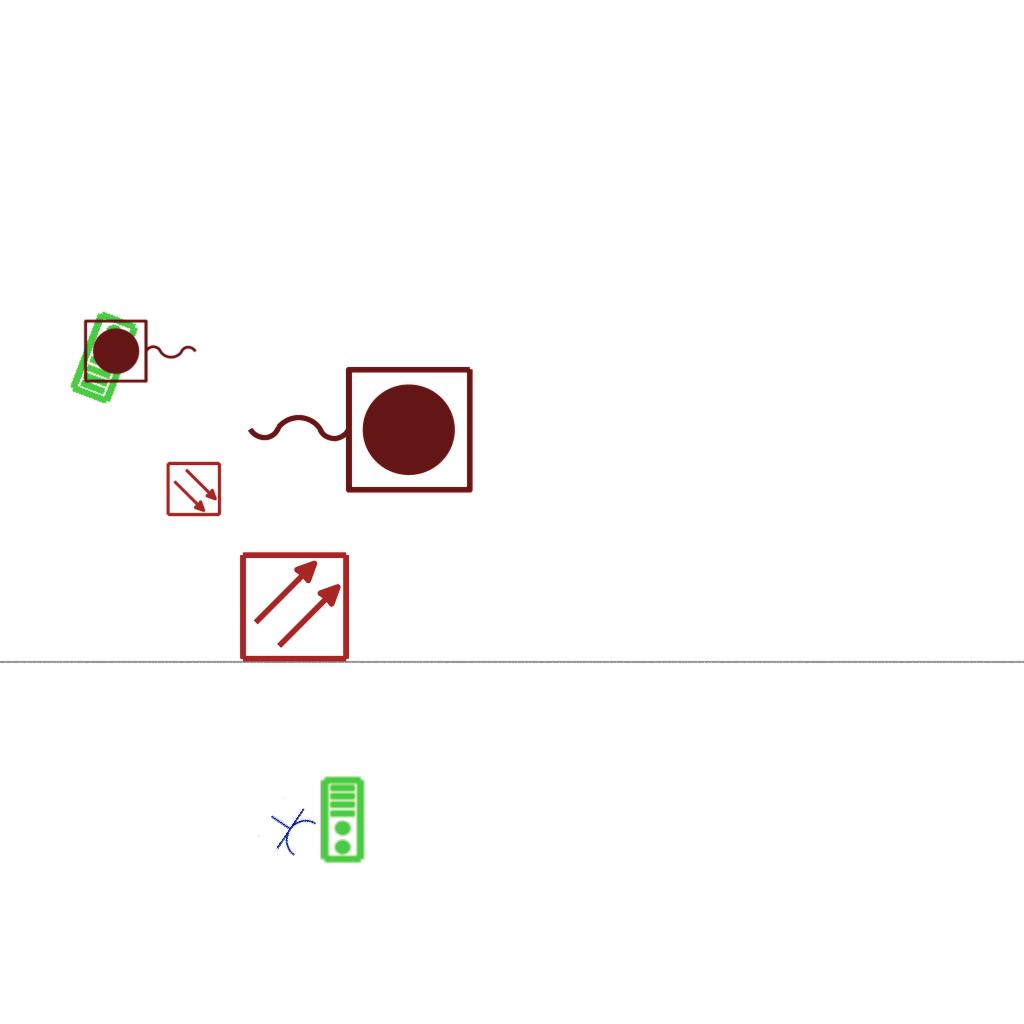Gegensprechanlage_mit_Video: (65, 307, 142, 407), (320, 776, 367, 864)
RMO_Rauchmelder_optischer: (238, 550, 351, 663), (166, 461, 222, 517)
Schukosteckdose_einfach: (257, 795, 321, 862)
Zugtaster: (237, 356, 481, 500), (80, 316, 202, 388)
